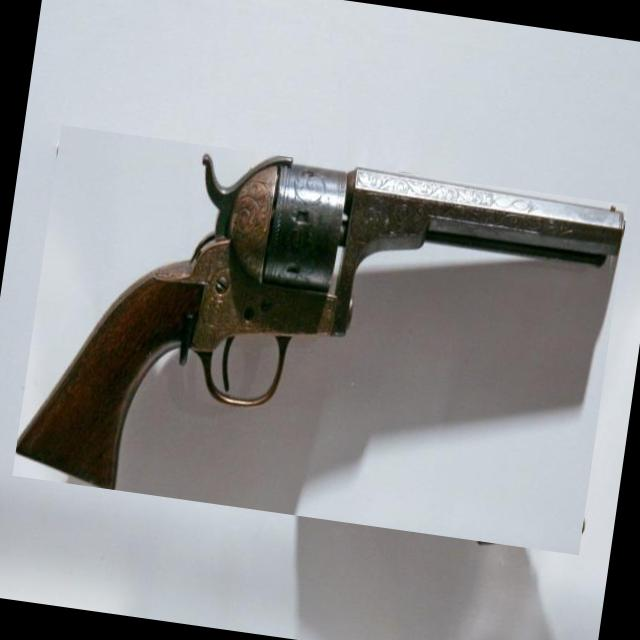Gun: (17, 156, 625, 490)
